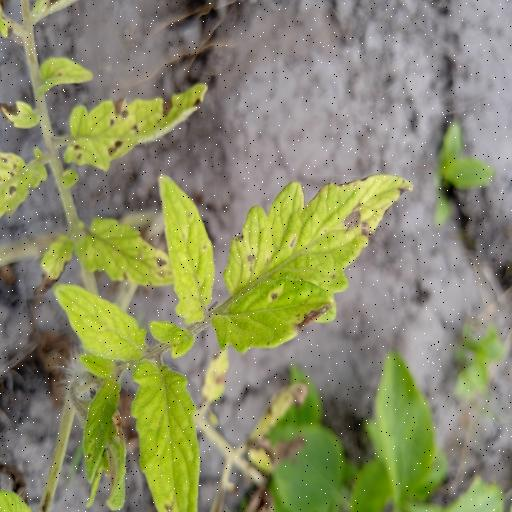Tomato_Brown_Spots: (210, 171, 416, 358), (66, 81, 208, 171), (131, 355, 203, 512), (156, 171, 218, 326), (54, 282, 148, 362), (79, 212, 173, 288)
